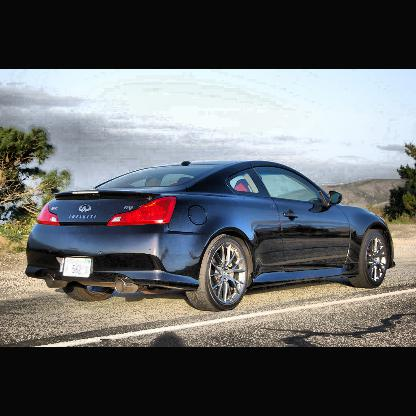Infiniti G Coupe IPL 2012: (24, 157, 396, 315)
